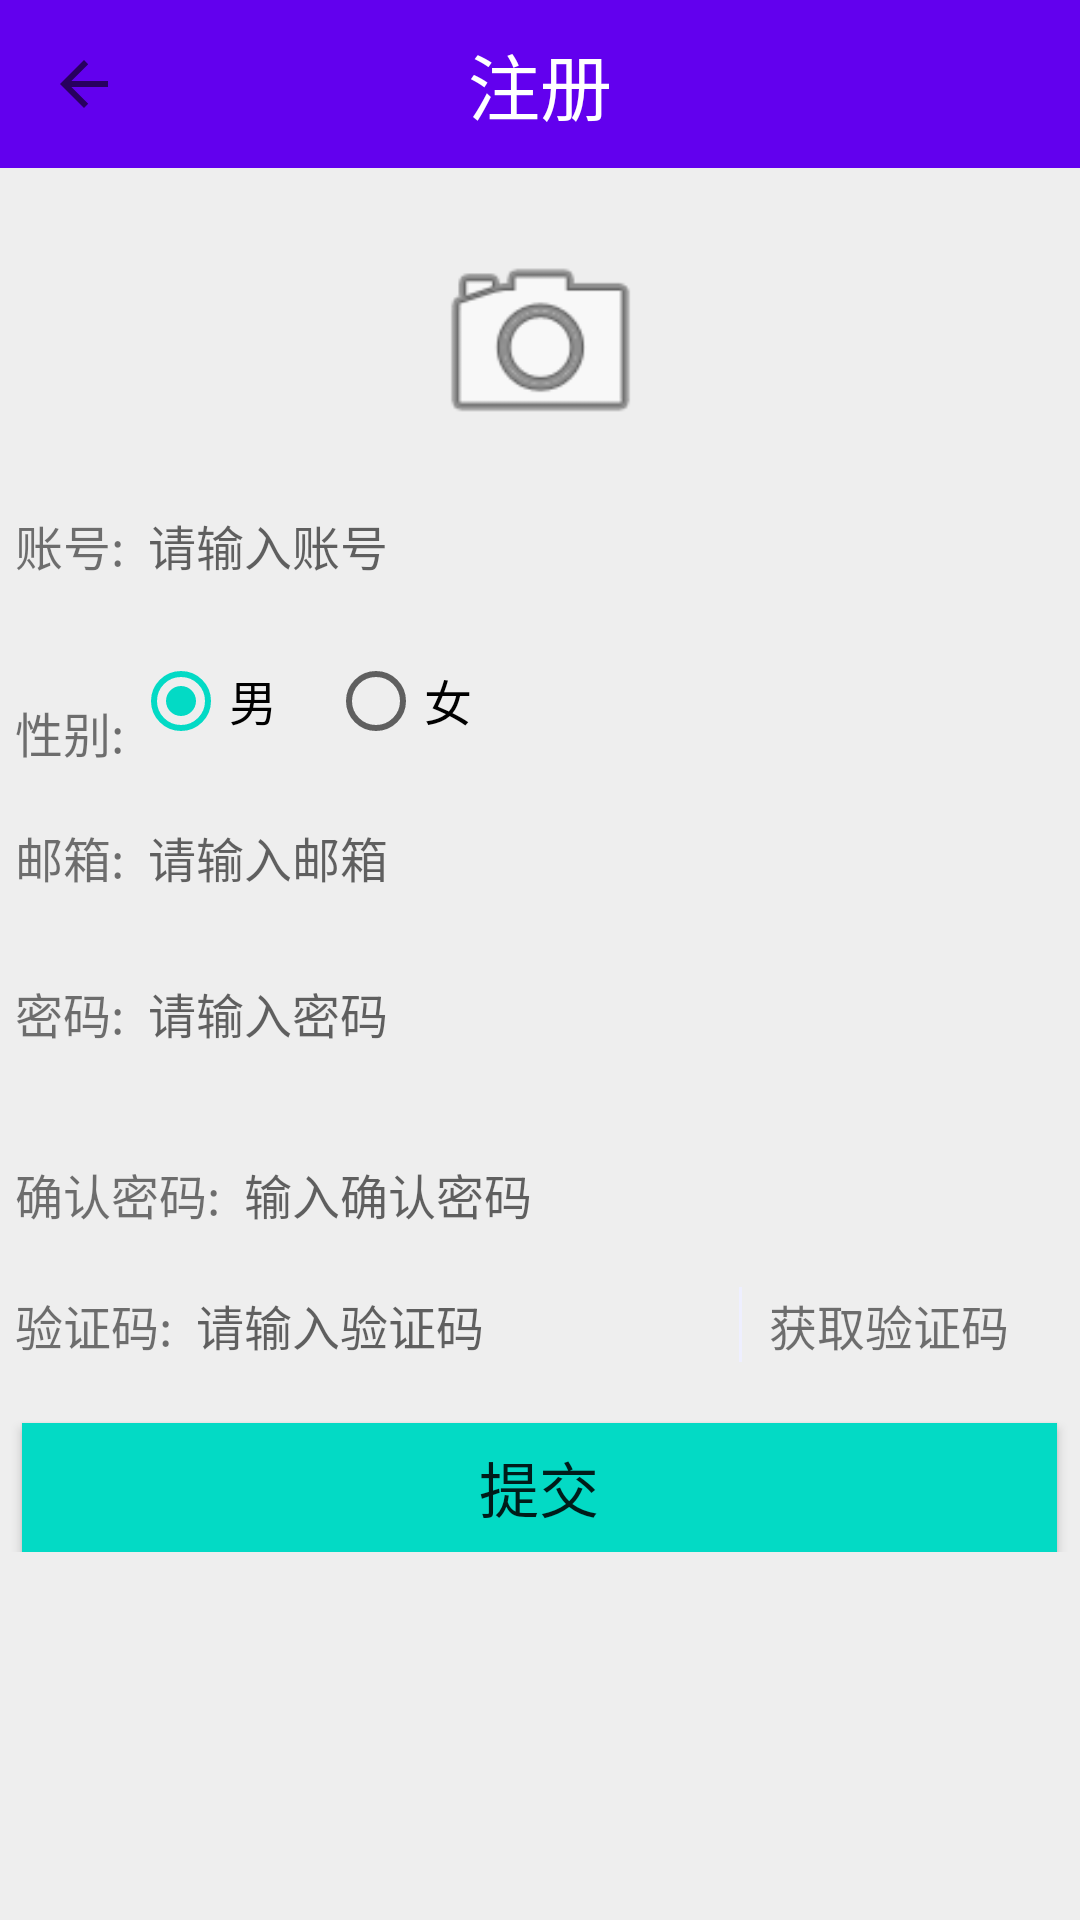

Where to tap for icons on this 1080×1920 app screen, as point (x, y):
camera: point (540, 340)
